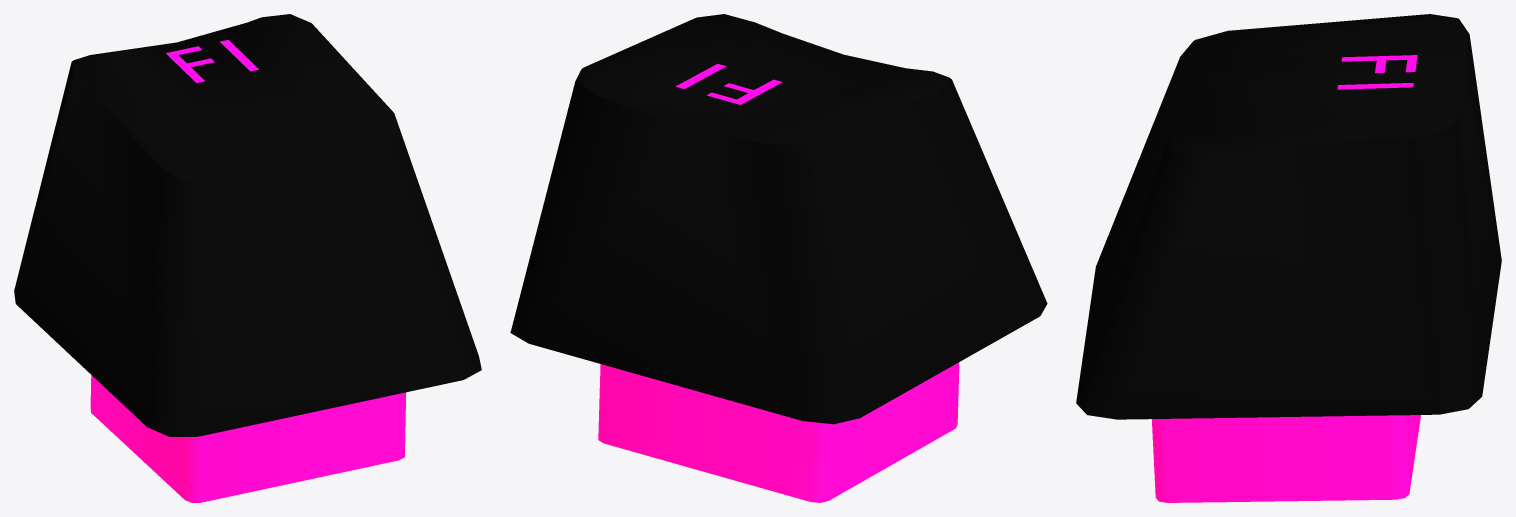
Rendered from f1-UFqhbeNS.glb.
3 renders of one model, left to right at view 1: azimuth 30°, elevation 25°; view 2: azimuth 150°, elevation 25°; view 3: azimuth 270°, elevation 25°, orthographic. The views are drawn at different scales.
Parts seen in each view (by area): view 1: StudyShelf_1150; view 2: StudyShelf_1150; view 3: StudyShelf_1150.
Part boxes in pixels (x1,y1,x2,y2): StudyShelf_1150: [14, 14, 481, 502]; StudyShelf_1150: [510, 14, 1047, 502]; StudyShelf_1150: [1076, 14, 1501, 502].
Size of the model in its own units: 4.35 by 4.31 by 4.35.
